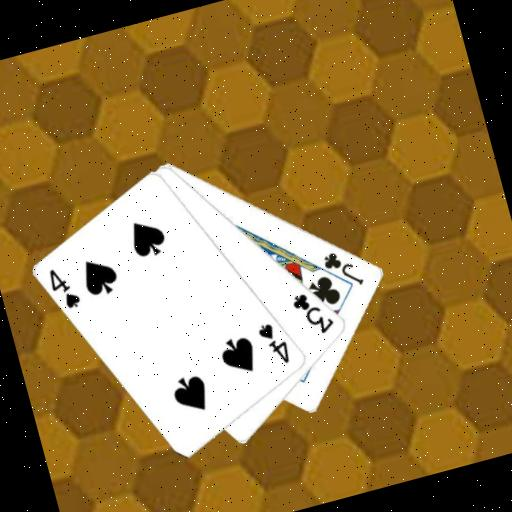3C: (287, 284, 338, 341)
4S: (43, 260, 84, 314), (253, 317, 293, 370)
JC: (318, 242, 367, 295)
